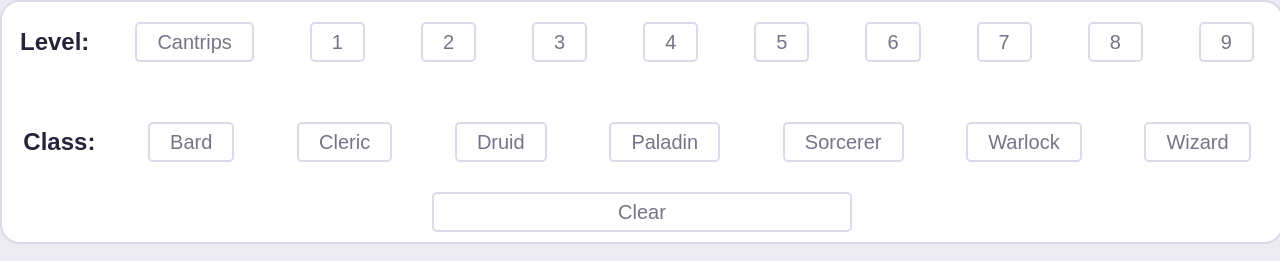
Scenario: disables Paladin when 6 is selected
This screenshot has width=1280, height=261.
Click the button "6".
click(893, 42)  # box [866,22,921,62]
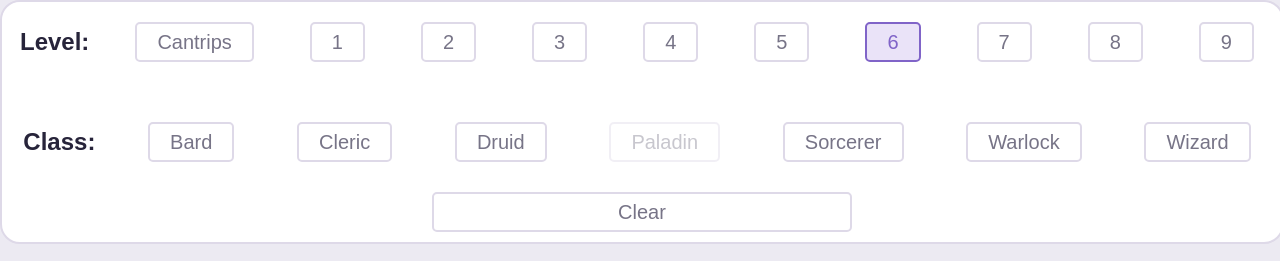
Check: the button "Paladin" is disabled, box [609,122,720,162]
